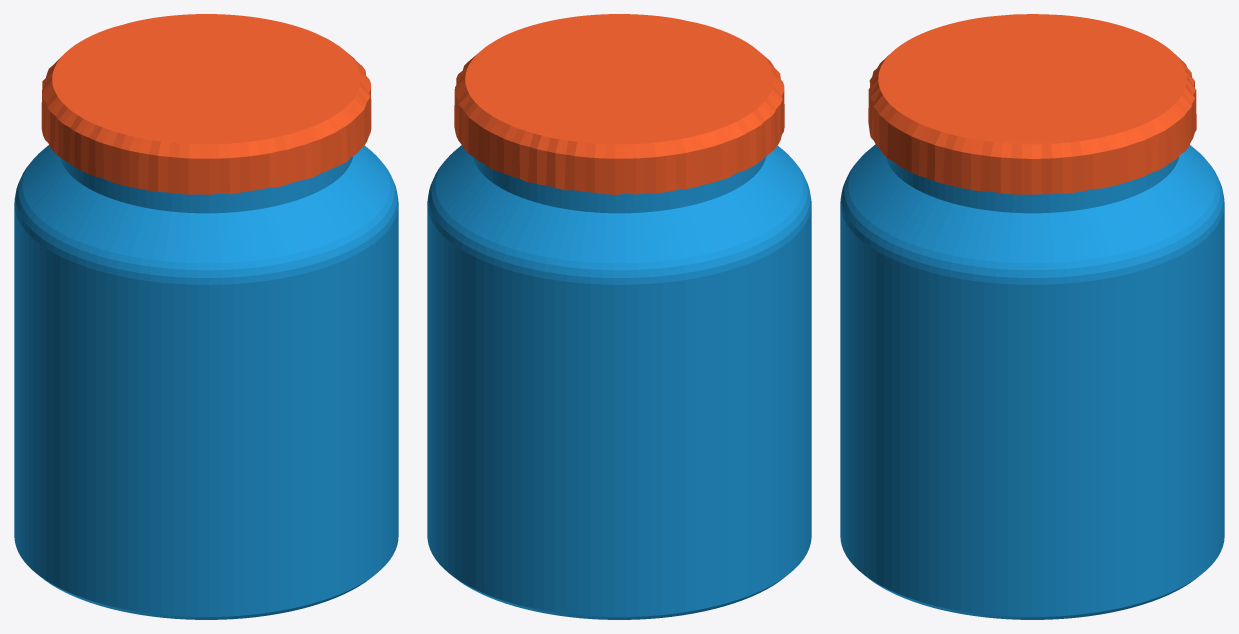
The model's file is GD3StaminaDrink.fbx.
The picture shows the model from 3 angles, left to right: view 1: azimuth 30°, elevation 25°; view 2: azimuth 150°, elevation 25°; view 3: azimuth 270°, elevation 25°; orthographic projection.
Visible parts, largest first — view 1: Cylinder, Cylinder.001; view 2: Cylinder, Cylinder.001; view 3: Cylinder, Cylinder.001.
Part boxes in pixels (x1,y1,x2,y2): Cylinder: (14, 145, 398, 619); Cylinder.001: (41, 14, 371, 194); Cylinder: (427, 145, 811, 619); Cylinder.001: (454, 14, 784, 194); Cylinder: (840, 144, 1224, 619); Cylinder.001: (868, 14, 1196, 194).
Size of the model in its own units: 200 by 265 by 200.
